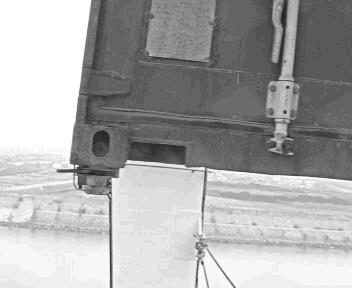twist_lock_1: (68, 161, 124, 200)
